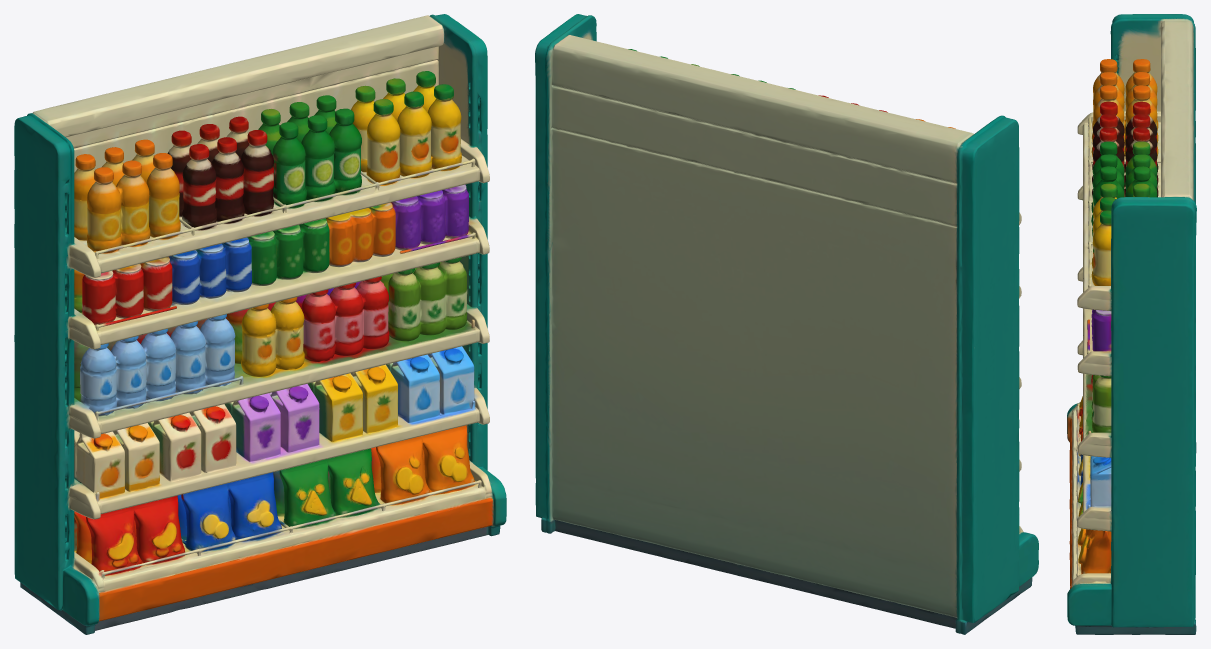
The model's file is BeverageShelf.glb.
3 renders of one model, left to right at view 1: azimuth 30°, elevation 25°; view 2: azimuth 150°, elevation 25°; view 3: azimuth 270°, elevation 25°, orthographic. The views are drawn at different scales.
Visible parts, largest first — view 1: tripo_node_b2562480-2ace-4794-95ef-3a198f40d684; view 2: tripo_node_b2562480-2ace-4794-95ef-3a198f40d684; view 3: tripo_node_b2562480-2ace-4794-95ef-3a198f40d684.
Part boxes in pixels (x1,y1,x2,y2): tripo_node_b2562480-2ace-4794-95ef-3a198f40d684: (14, 14, 506, 634); tripo_node_b2562480-2ace-4794-95ef-3a198f40d684: (535, 14, 1038, 634); tripo_node_b2562480-2ace-4794-95ef-3a198f40d684: (1067, 14, 1196, 634).
Bounding box in the file's own units: 0.9248 × 0.9795 × 0.2647.
1 material, 1 textured.
